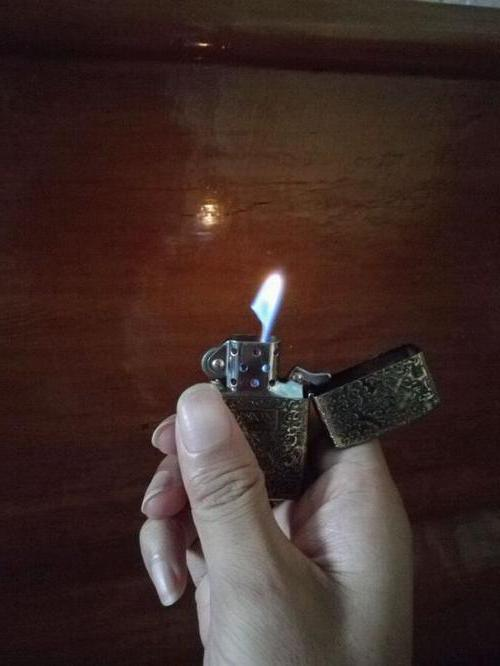fire: (246, 261, 287, 356)
